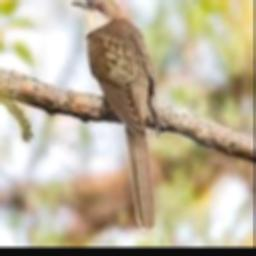Cuckoo: (71, 0, 158, 231)
